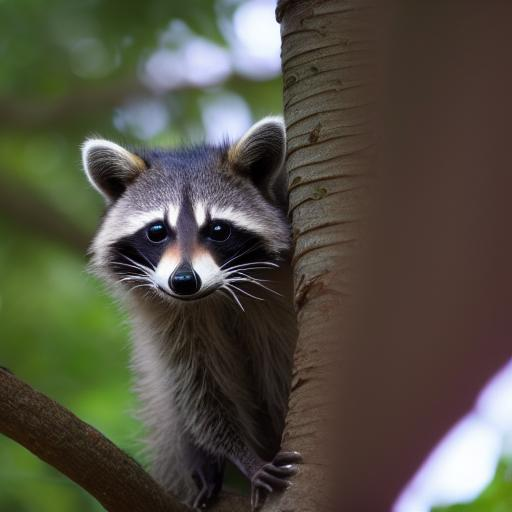raccoon: (82, 107, 297, 499)
